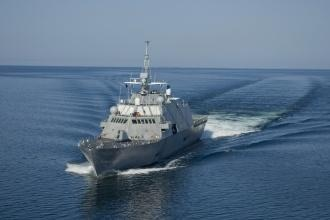warship: (74, 36, 208, 180)
